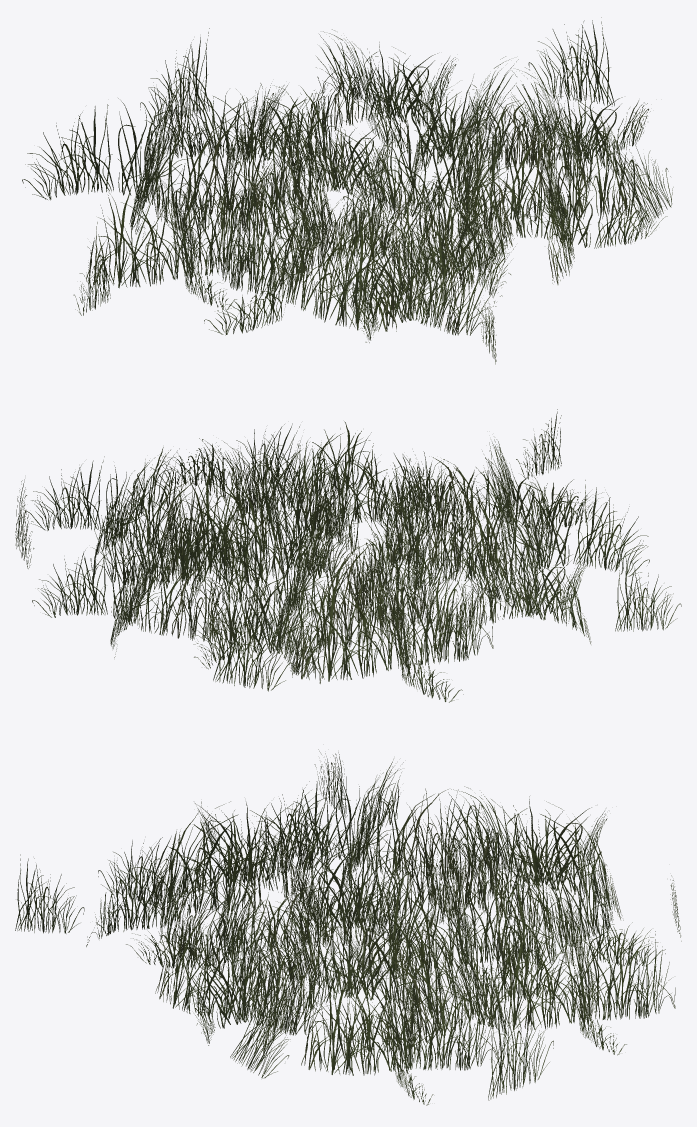
File: SM_FieldGrass_01.fbx
The picture shows the model from 3 angles, top to bottom: view 1: azimuth 30°, elevation 25°; view 2: azimuth 150°, elevation 25°; view 3: azimuth 270°, elevation 25°; orthographic projection. The views are drawn at different scales.
Parts seen in each view (by area): view 1: SM_FieldGrass_01_LOD0; view 2: SM_FieldGrass_01_LOD0; view 3: SM_FieldGrass_01_LOD0.
Boxes of the visible parts, box(x1,y1,x2,y2) form: SM_FieldGrass_01_LOD0: box(22, 17, 673, 364); SM_FieldGrass_01_LOD0: box(15, 409, 681, 702); SM_FieldGrass_01_LOD0: box(15, 749, 681, 1105).
Bounding box in the file's own units: 120 × 106 × 20.43.
1 material, 1 textured.
